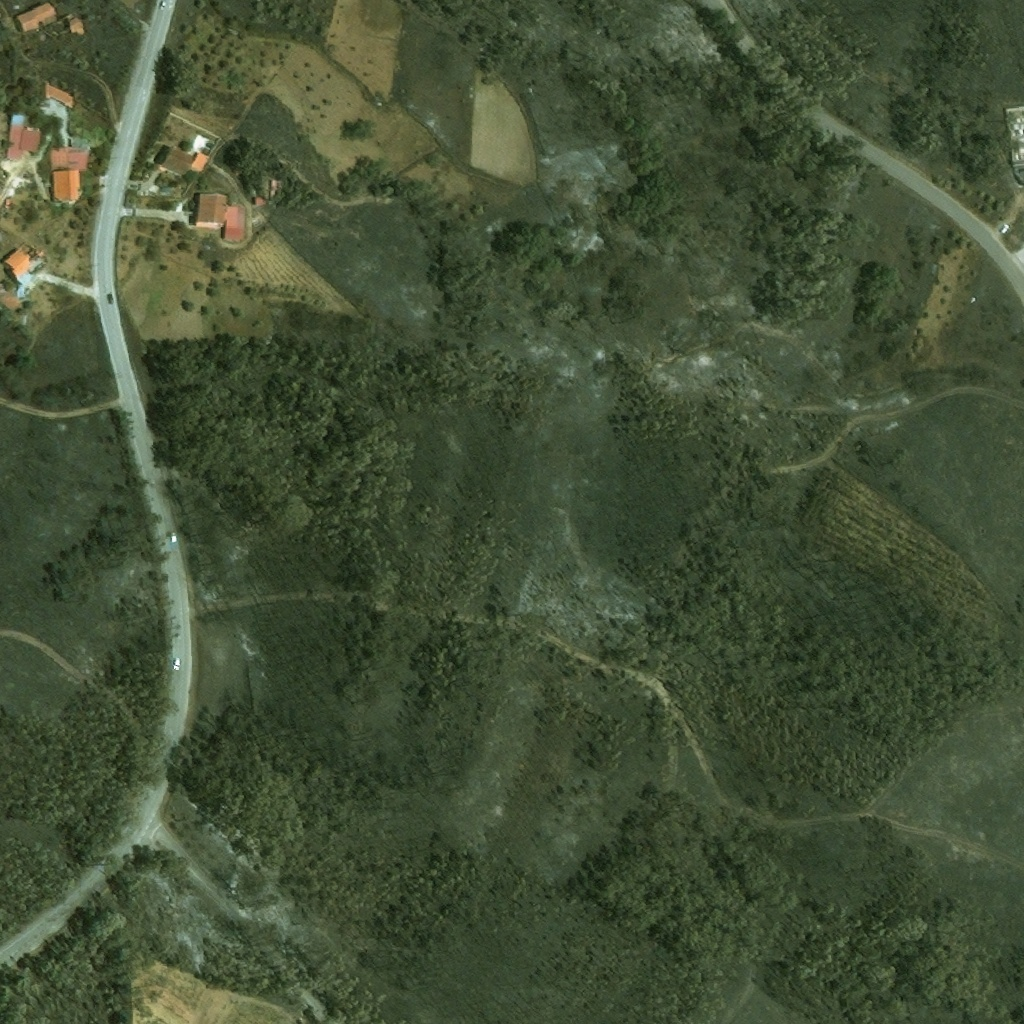0 no-damage: (4, 113, 40, 161), (0, 240, 42, 278), (13, 2, 57, 33), (194, 192, 227, 226), (46, 147, 88, 171), (46, 171, 78, 201), (138, 171, 173, 198), (222, 205, 247, 241), (161, 146, 190, 175), (42, 84, 75, 108), (15, 271, 42, 300), (186, 151, 210, 180), (131, 196, 146, 209), (252, 197, 262, 207)
1 minor-damage: (0, 287, 22, 314), (269, 180, 282, 200)
3 destroyed: (194, 136, 213, 151)
4 un-classified: (1003, 105, 1023, 168)
